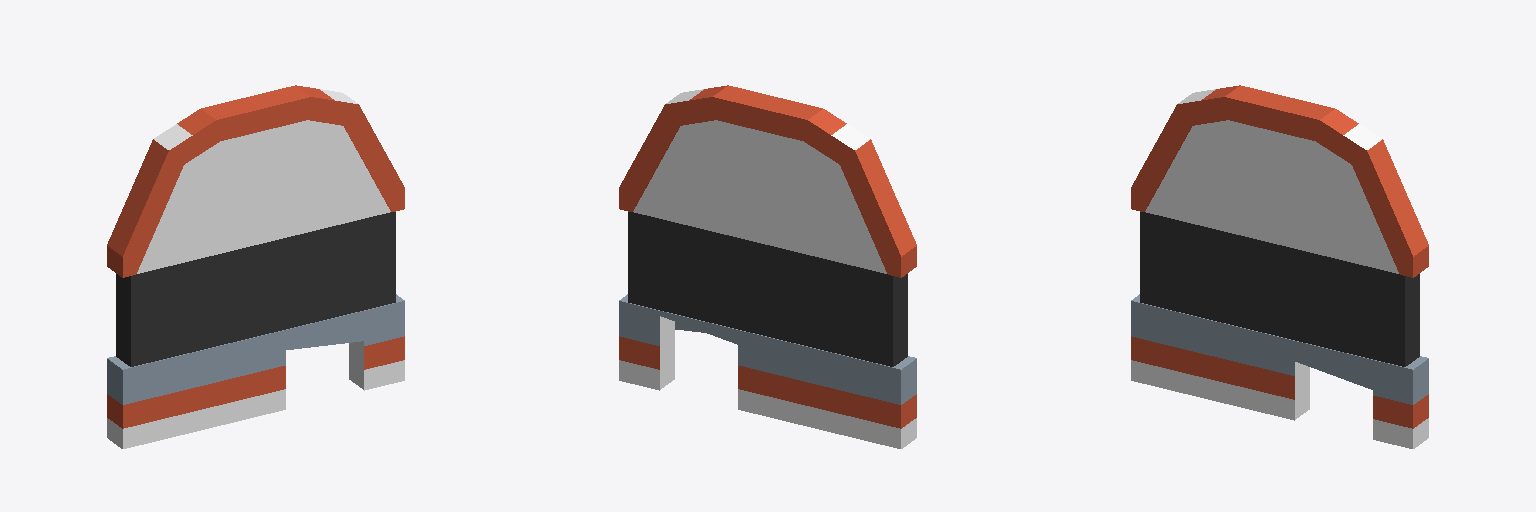
The model's file is buildingCorridorHole.obj.
The picture shows the model from 3 angles: view 1: azimuth 30°, elevation 25°; view 2: azimuth 150°, elevation 25°; view 3: azimuth 330°, elevation 25°; orthographic projection.
Visible parts, largest first — view 1: buildingCorridor; view 2: buildingCorridor; view 3: buildingCorridor.
Part boxes in pixels (bbox=[...]): buildingCorridor: bbox=[107, 85, 404, 448]; buildingCorridor: bbox=[619, 85, 916, 448]; buildingCorridor: bbox=[1131, 85, 1428, 448].
Size of the model in its own units: 10 by 10.37 by 0.973.